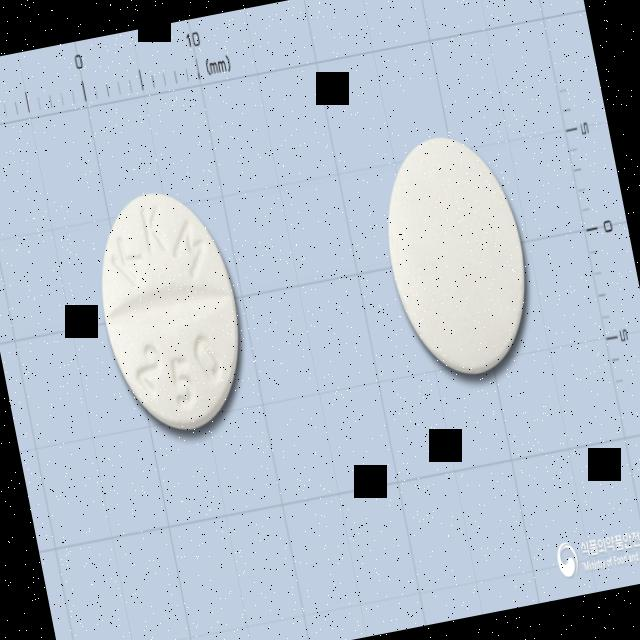Ciploxcin: (80, 173, 264, 450)
